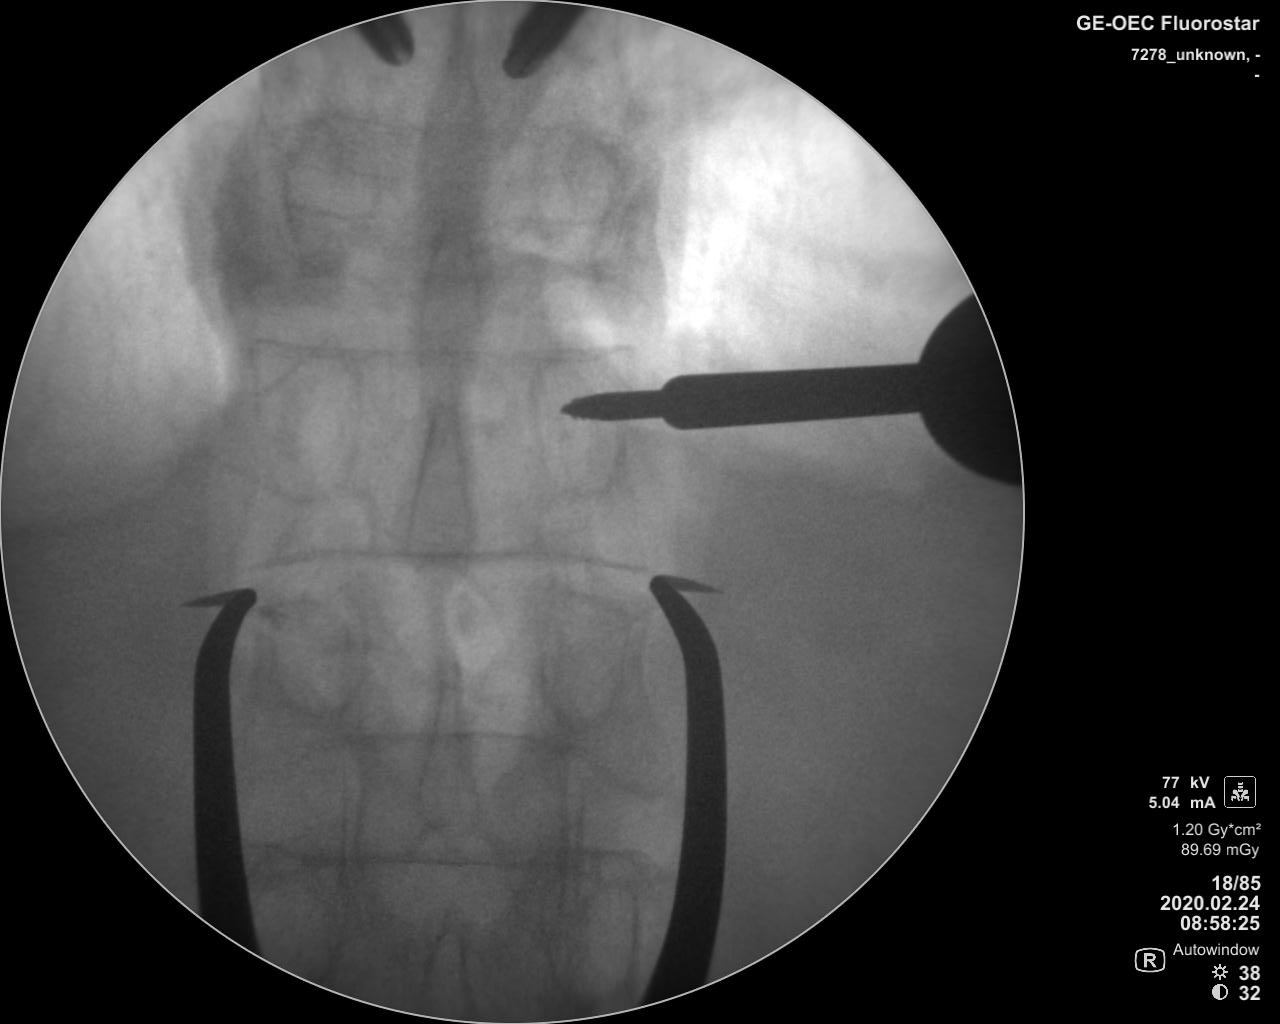eyes: (252, 353, 362, 503), (535, 860, 636, 1005), (531, 360, 628, 502), (283, 123, 378, 261), (272, 586, 368, 719), (534, 588, 621, 734), (528, 122, 626, 241)
line: (254, 338, 643, 371), (238, 546, 651, 576), (263, 844, 552, 877), (290, 730, 608, 755)
nose: (403, 399, 474, 594), (415, 31, 486, 223), (414, 660, 485, 839), (417, 224, 478, 395), (418, 915, 472, 1018)
